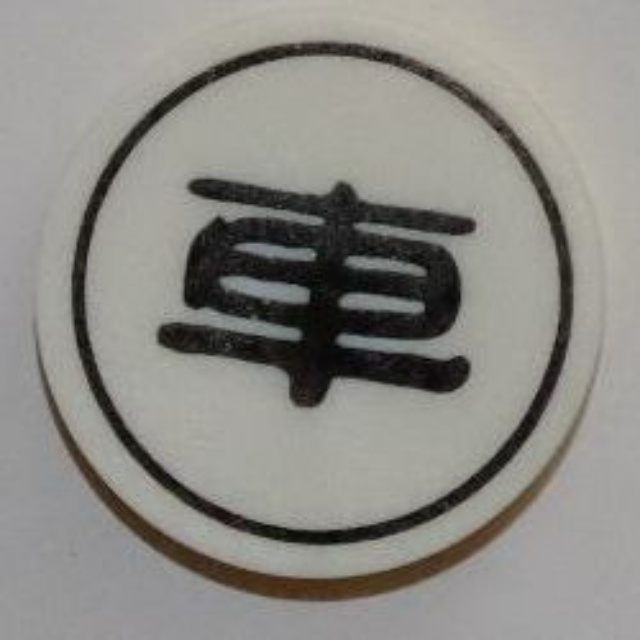black_xe: (27, 6, 610, 603)
